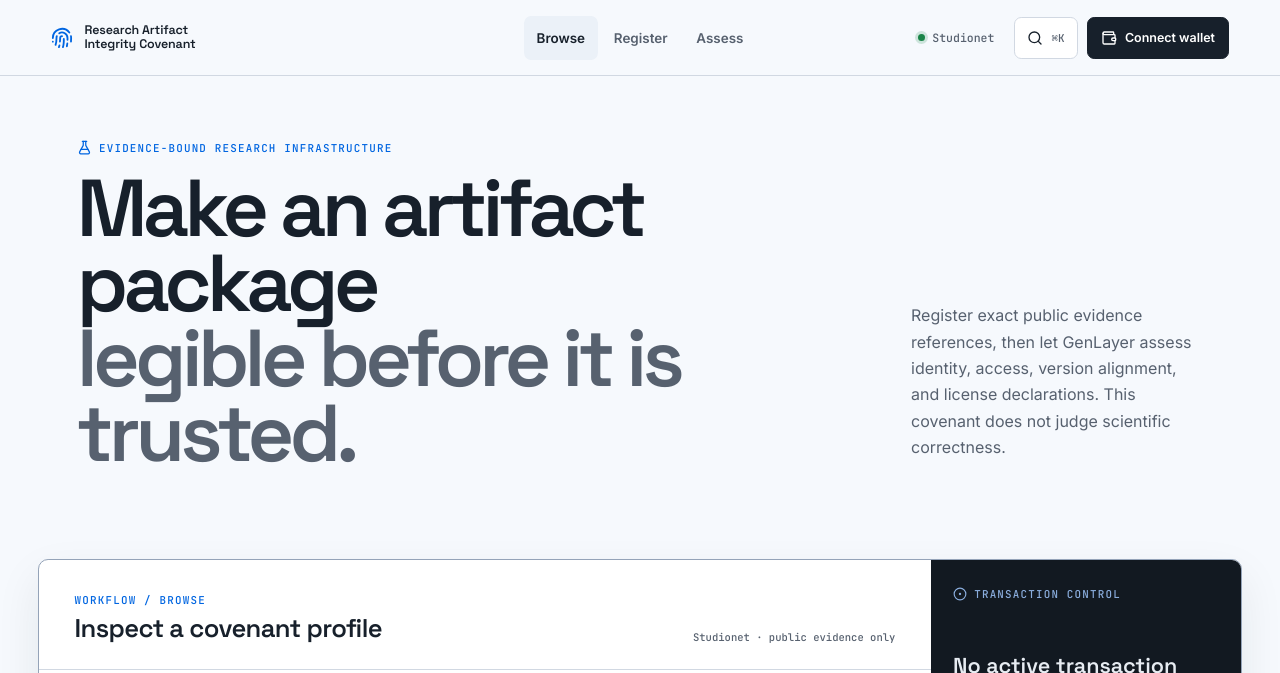
Test: restart-safe draft workflow › rechecks draft authority immediately before initial activation
Click the button "register". click: (641, 38)
box: 601,16 -> 680,60
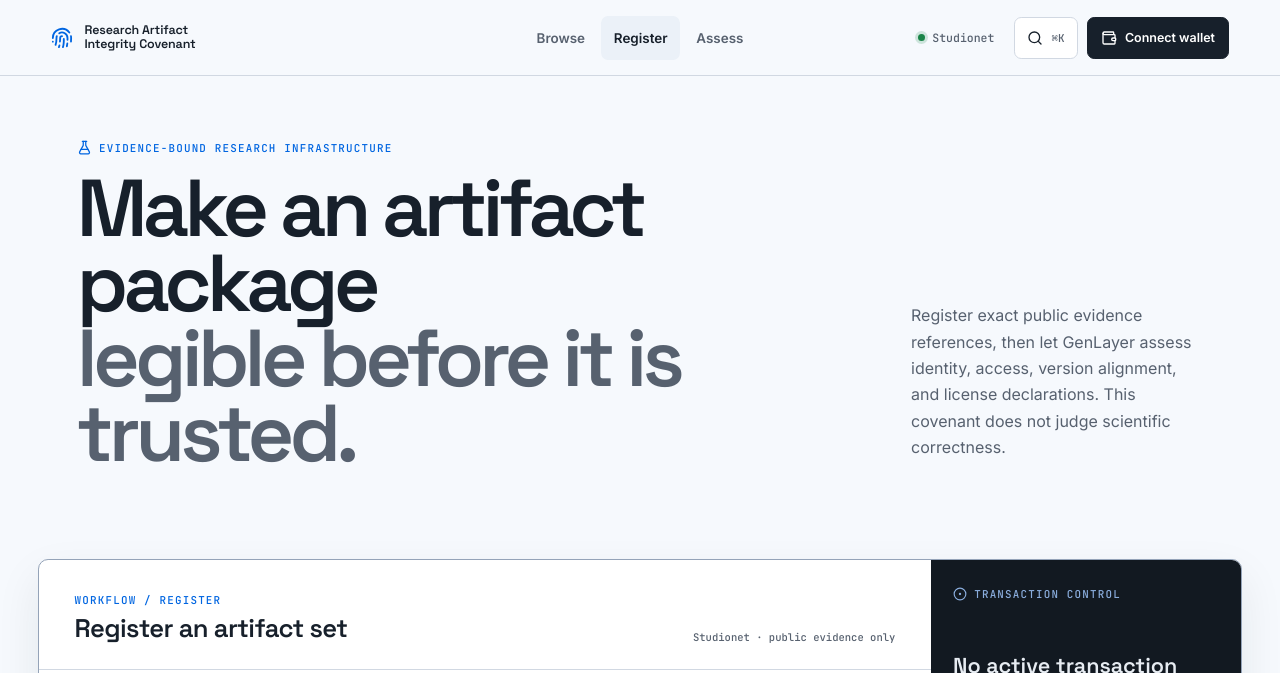
Click the button "Connect wallet". click: (1158, 38)
box: 1087,16 -> 1229,58
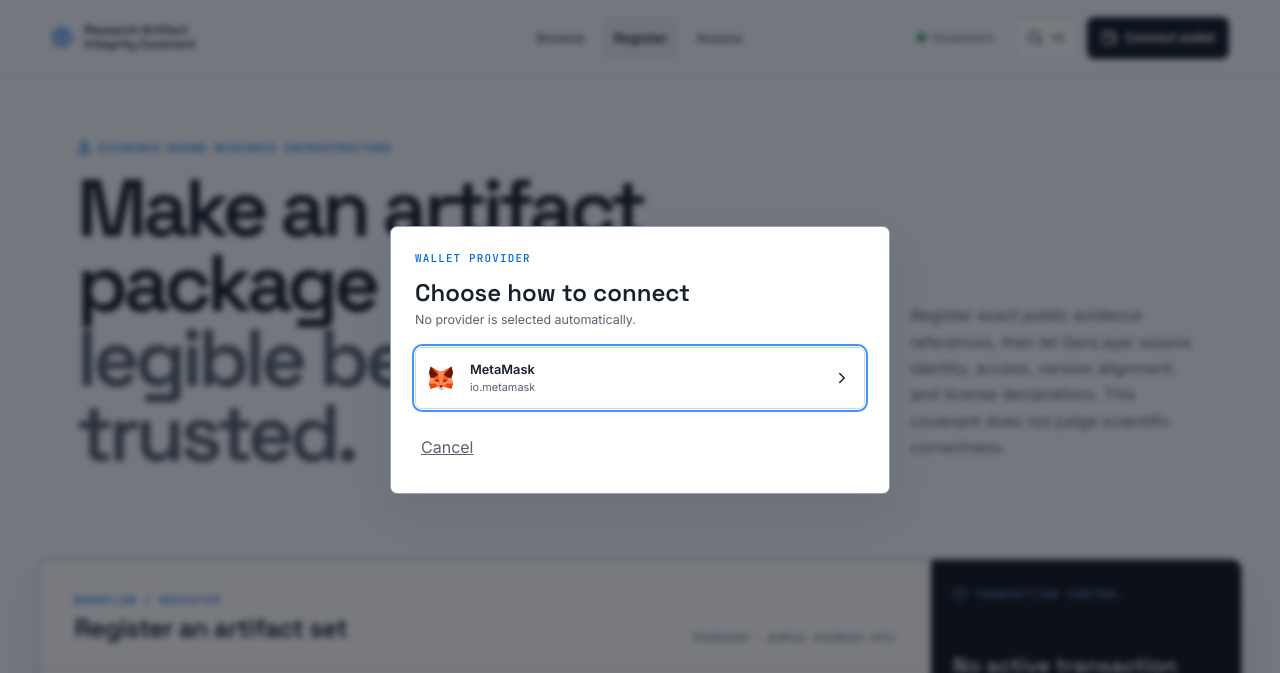
Click the button "MetaMask io.metamask". click: (502, 369)
box: 415,347 -> 865,409
(page scrolled)
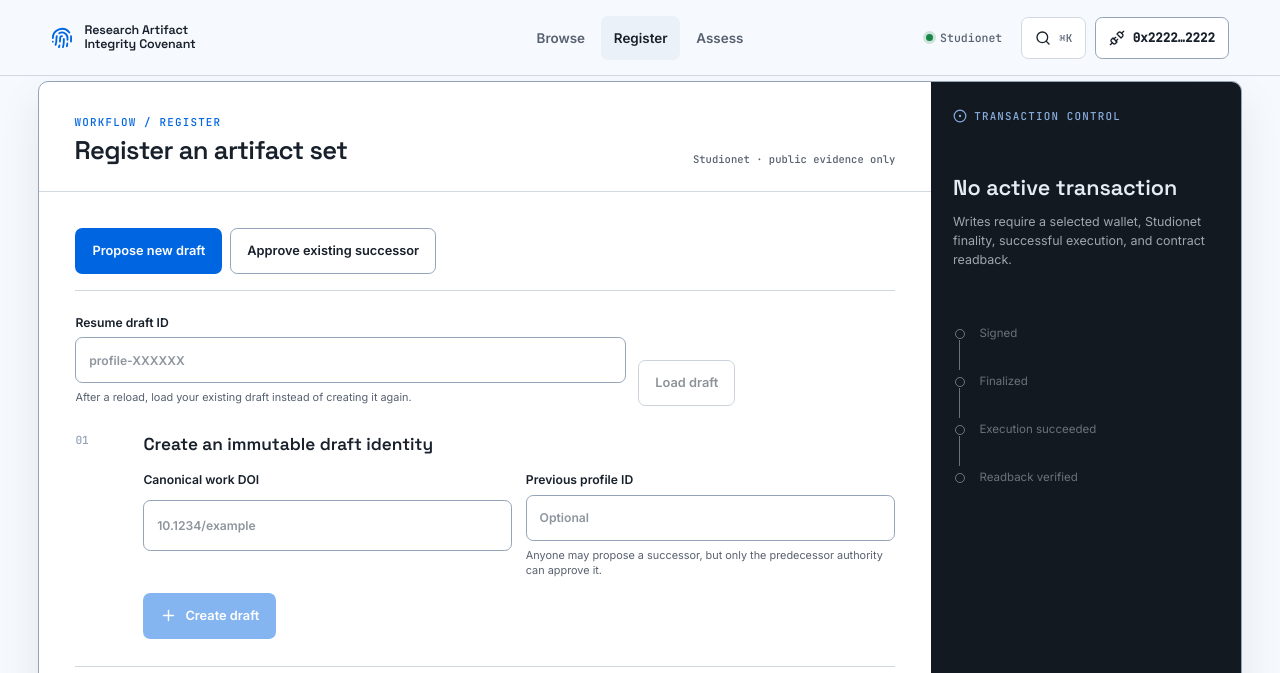
Result: the button "0x2222…2222" is shown at 1095,16 -> 1229,58
Type "profile-000002" into the field with placeholder "profile-XXXXXX". click: (350, 360)
box: 75,337 -> 626,383
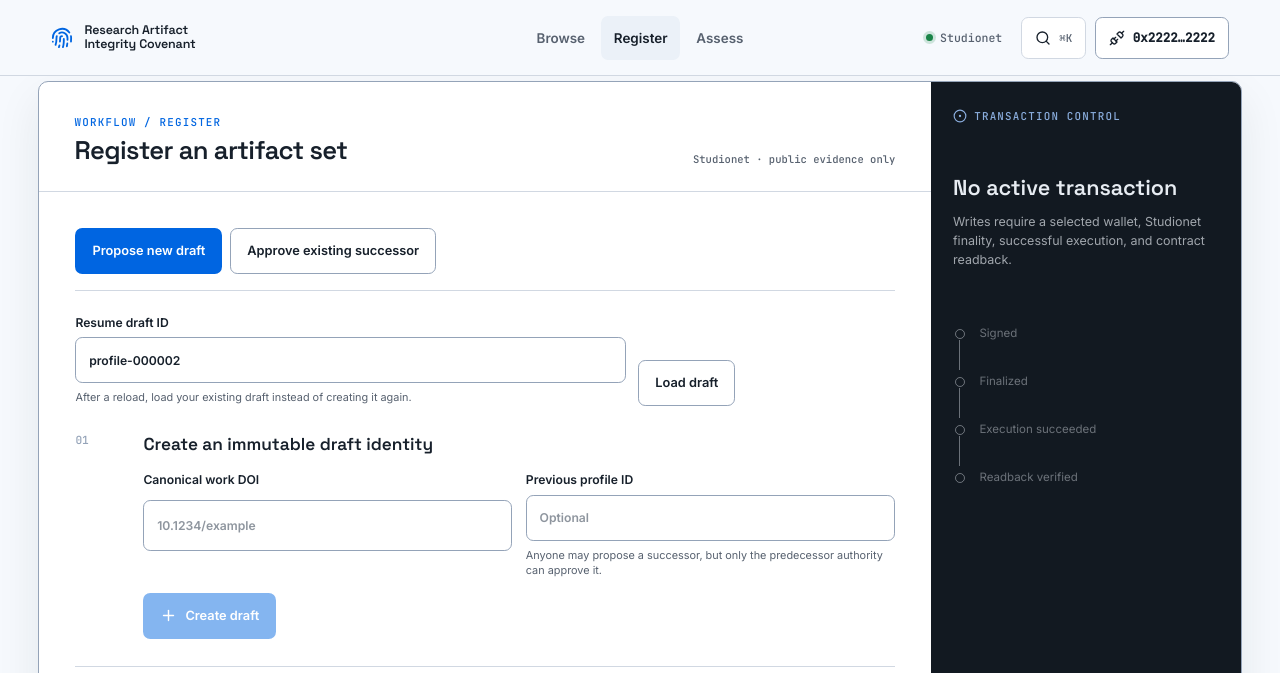
Click the button "Load draft". click: (687, 382)
box: 638,360 -> 735,406
(page scrolled)
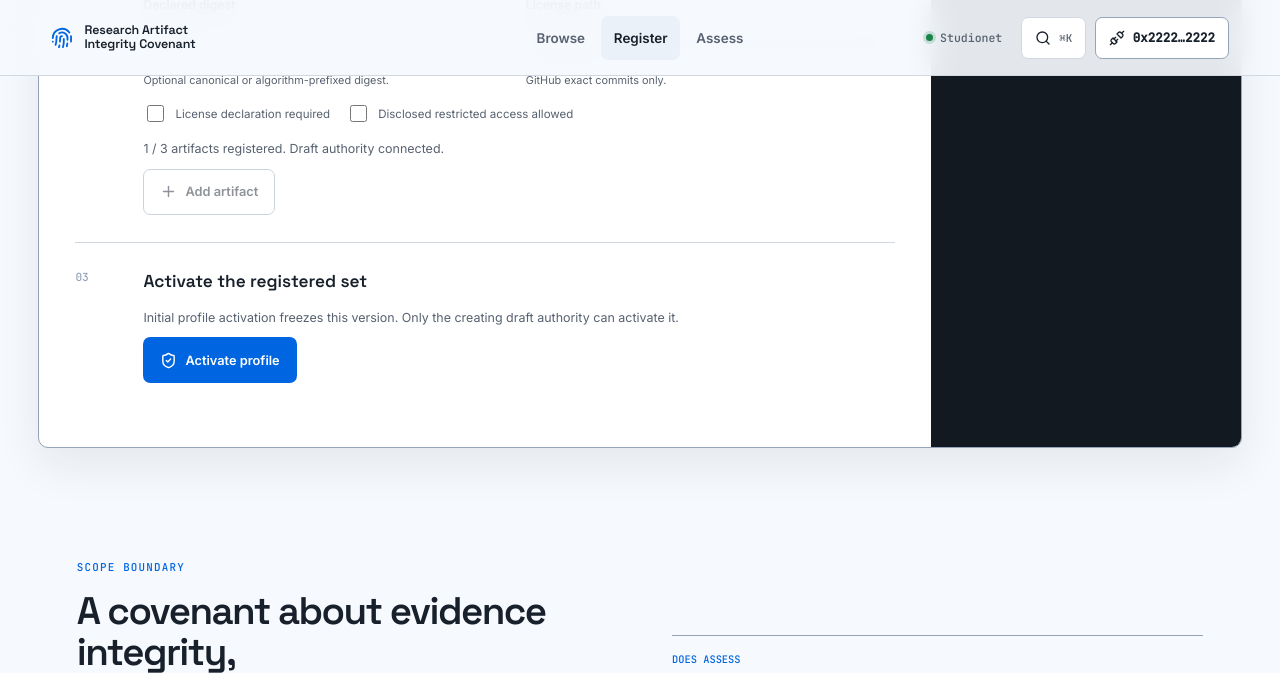
Click the button "Activate profile". click: (220, 360)
box: 143,337 -> 297,383
(page scrolled)
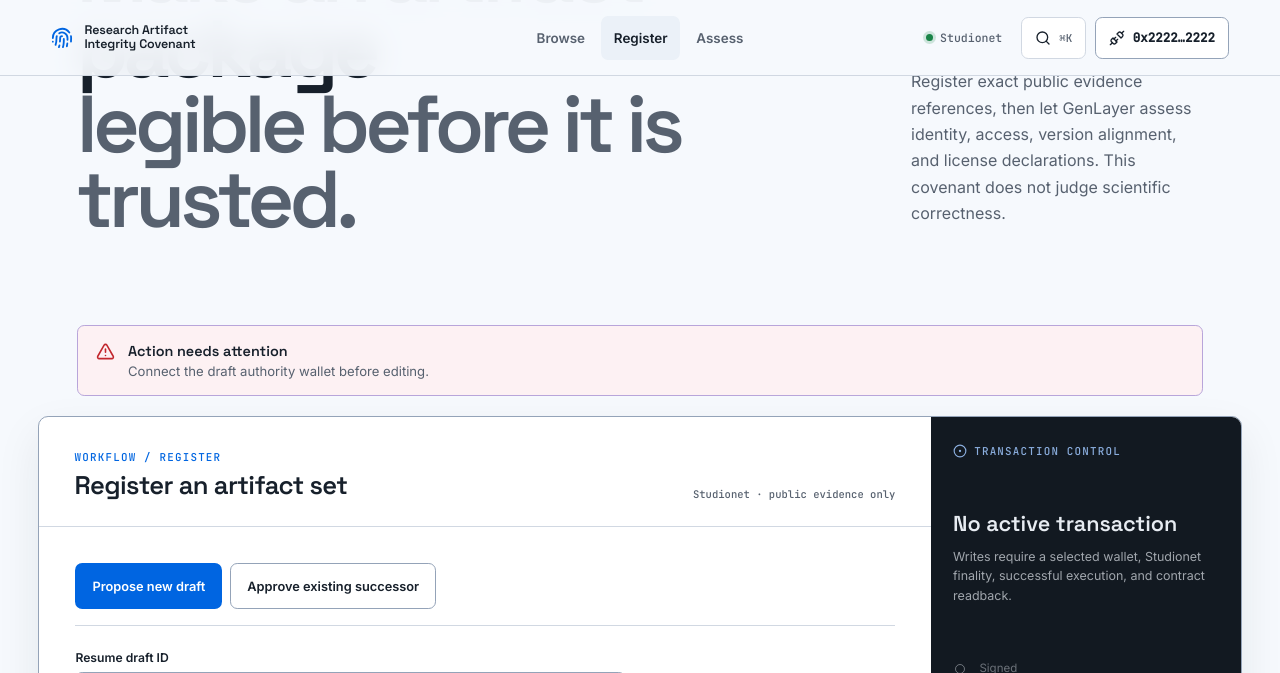
Result: the message shows "draft authority" at 128,363 -> 429,379
